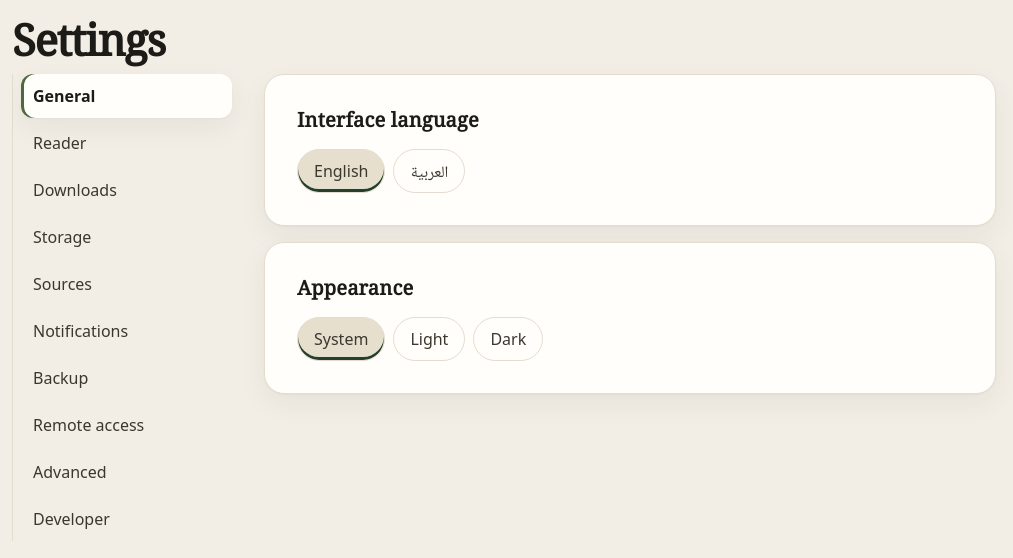
Test: Settings › describes remote access honestly when it is not set up
The image size is (1013, 558).
Expected: the element named "settings" is shown, [12,74,232,542]
Click the tab "Remote access": [126, 426] box [21,404,232,448]
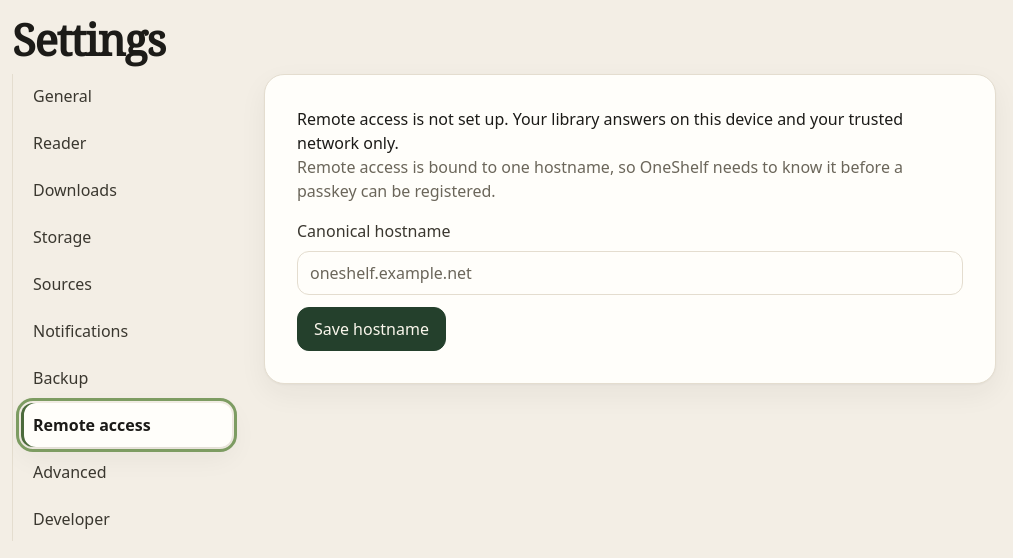
Expected: the text "not set up" is shown, [297,108,903,154]
